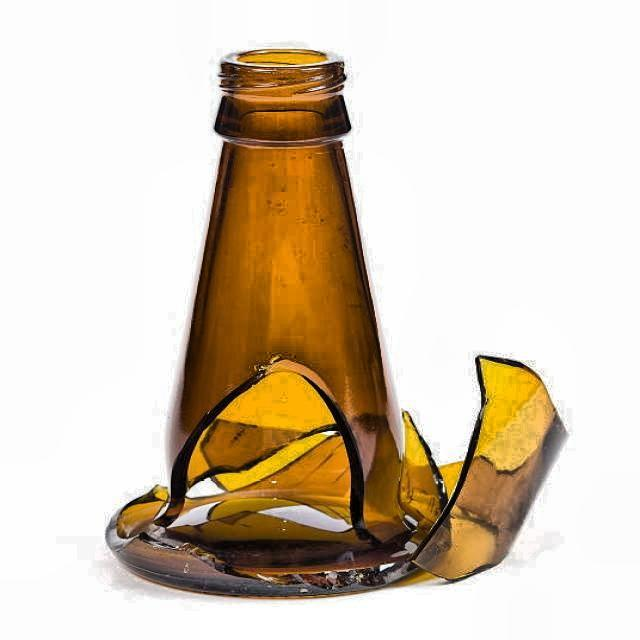glass: (160, 50, 409, 543), (108, 412, 446, 597), (412, 356, 560, 581)
